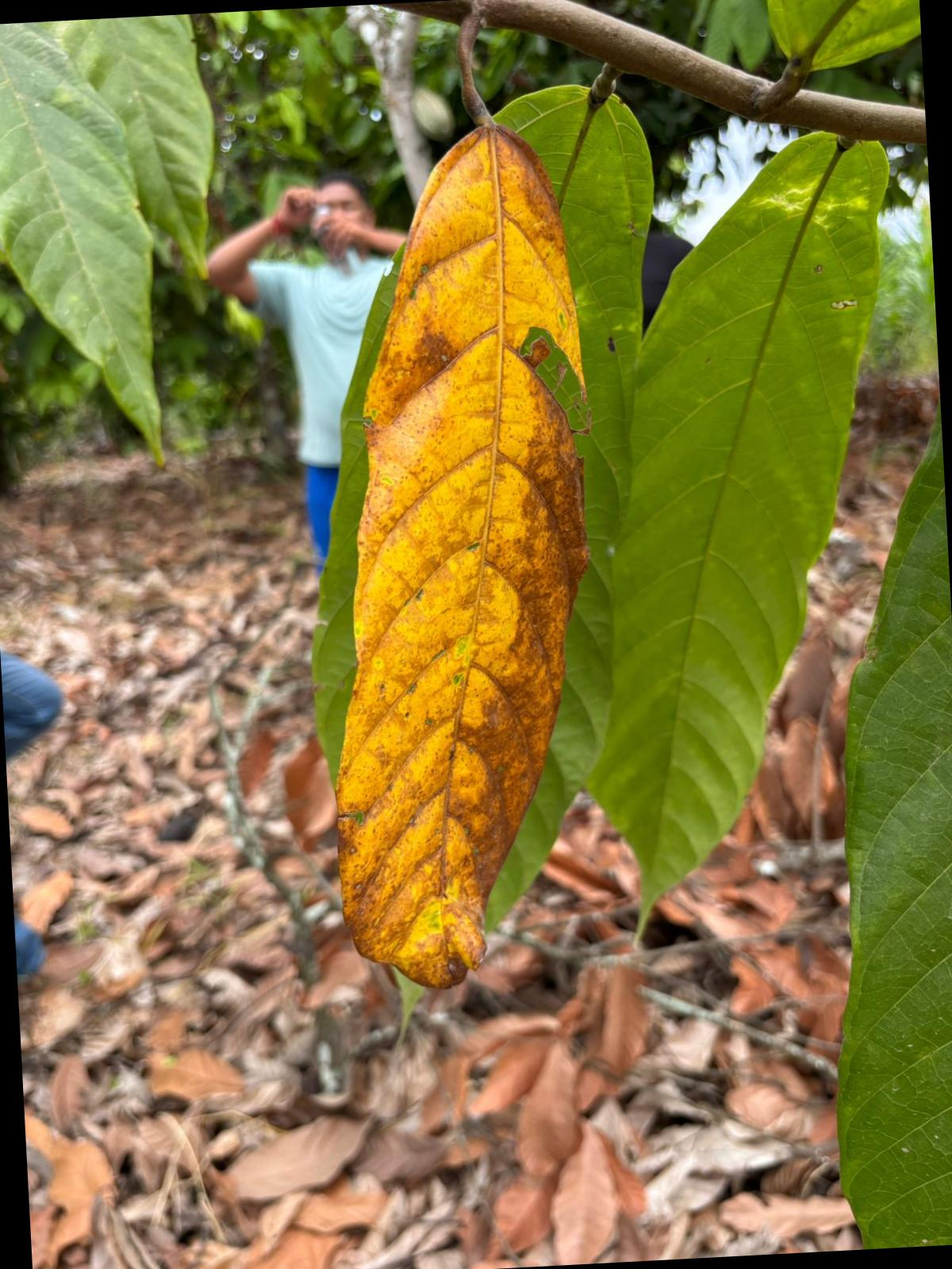Fosforo: (337, 119, 589, 986)
